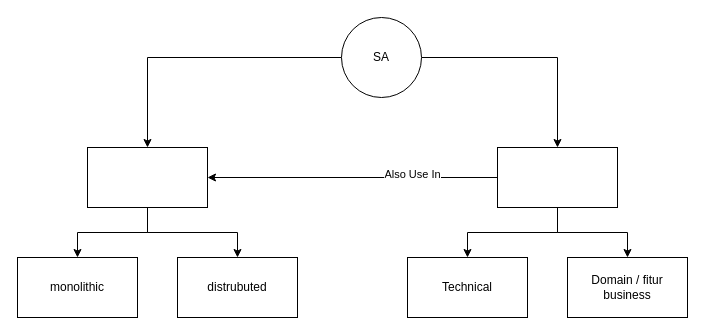
This 705x335 diagram has some shape labels left out. The shapes that lost their labels are listed below. From the top down, each one's box as (x1, y1, x2, y2) in pixels, then its label:
(86, 146, 208, 208): classification
(496, 146, 618, 208): partition
